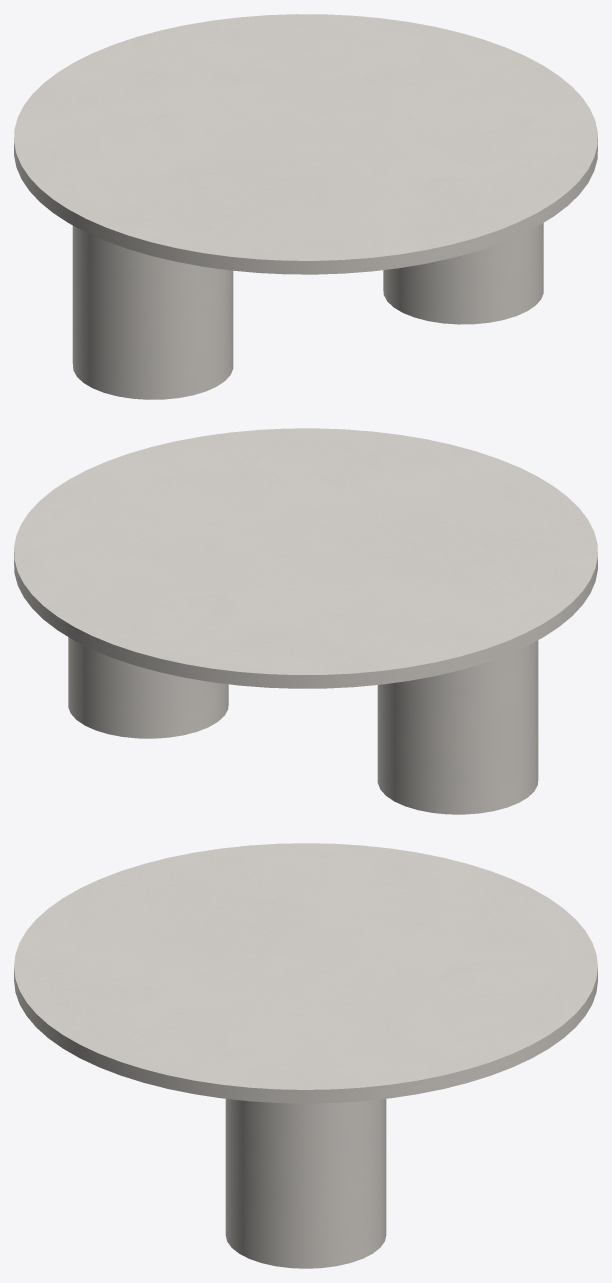
The model's file is pearlwhite_round_standard_stream.glb.
The picture shows the model from 3 angles, top to bottom: view 1: azimuth 30°, elevation 25°; view 2: azimuth 150°, elevation 25°; view 3: azimuth 270°, elevation 25°; orthographic projection.
Visible parts, largest first — view 1: pearlwhite_roundstandard_stream; view 2: pearlwhite_roundstandard_stream; view 3: pearlwhite_roundstandard_stream.
Boxes of the visible parts, <box> form: pearlwhite_roundstandard_stream: <box>14,14,597,399</box>; pearlwhite_roundstandard_stream: <box>14,428,597,814</box>; pearlwhite_roundstandard_stream: <box>14,843,597,1268</box>.
Size of the model in its own units: 6.97 by 2.52 by 6.97.
Materials: 1 (1 with a texture image).
